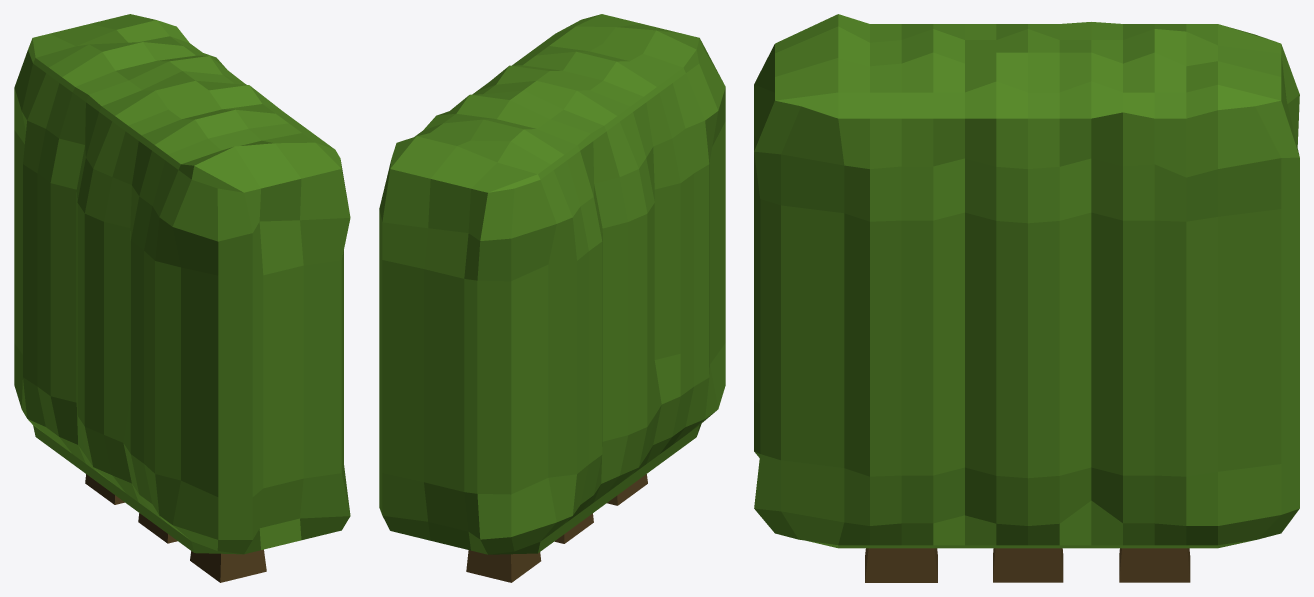
The model's file is struik1.fbx.
3 renders of one model, left to right at view 1: azimuth 30°, elevation 25°; view 2: azimuth 150°, elevation 25°; view 3: azimuth 270°, elevation 25°, orthographic. The views are drawn at different scales.
Parts seen in each view (by area): view 1: Cube, Cube.001; view 2: Cube, Cube.001; view 3: Cube, Cube.001.
Part boxes in pixels (x1,y1,x2,y2): Cube: (14,14,350,554); Cube.001: (85,474,266,582); Cube: (379,14,725,554); Cube.001: (466,474,647,582); Cube: (754,14,1299,548); Cube.001: (865,548,1190,582).
Bounding box in the file's own units: 102 × 232 × 216.
